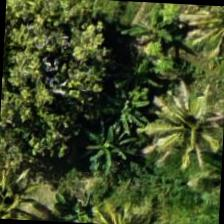Kelapa_Sawit: (142, 84, 223, 179), (0, 158, 52, 222)
